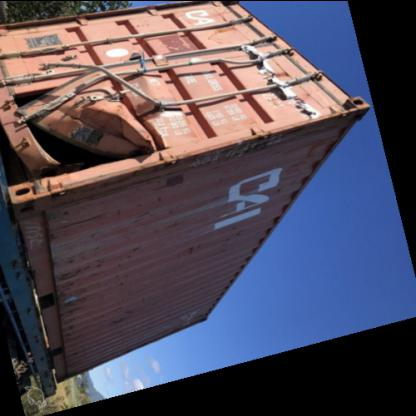Damage: (5, 38, 290, 200), (48, 256, 94, 346)
